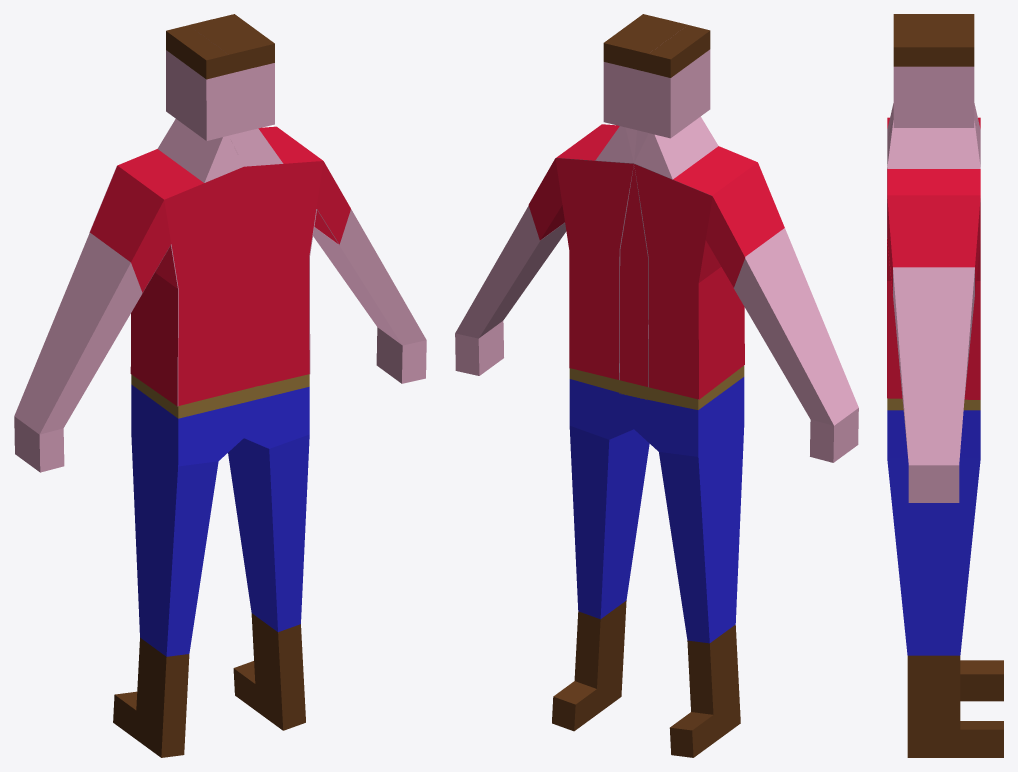
File: human.glb
3 renders of one model, left to right at view 1: azimuth 30°, elevation 25°; view 2: azimuth 150°, elevation 25°; view 3: azimuth 270°, elevation 25°, orthographic. The views are drawn at different scales.
Visible parts, largest first — view 1: Cube; view 2: Cube; view 3: Cube.
Part boxes in pixels (left/top/right/bottom): Cube: left=14, top=14, right=426, bottom=757; Cube: left=455, top=14, right=858, bottom=757; Cube: left=887, top=14, right=1003, bottom=757.
Size of the model in its own units: 9.54 by 16.38 by 2.5.
